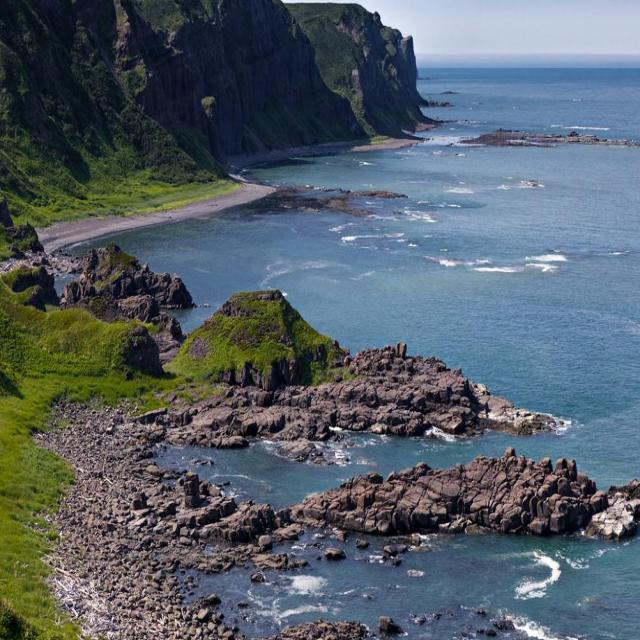reef: (162, 280, 551, 470), (311, 434, 627, 570)
